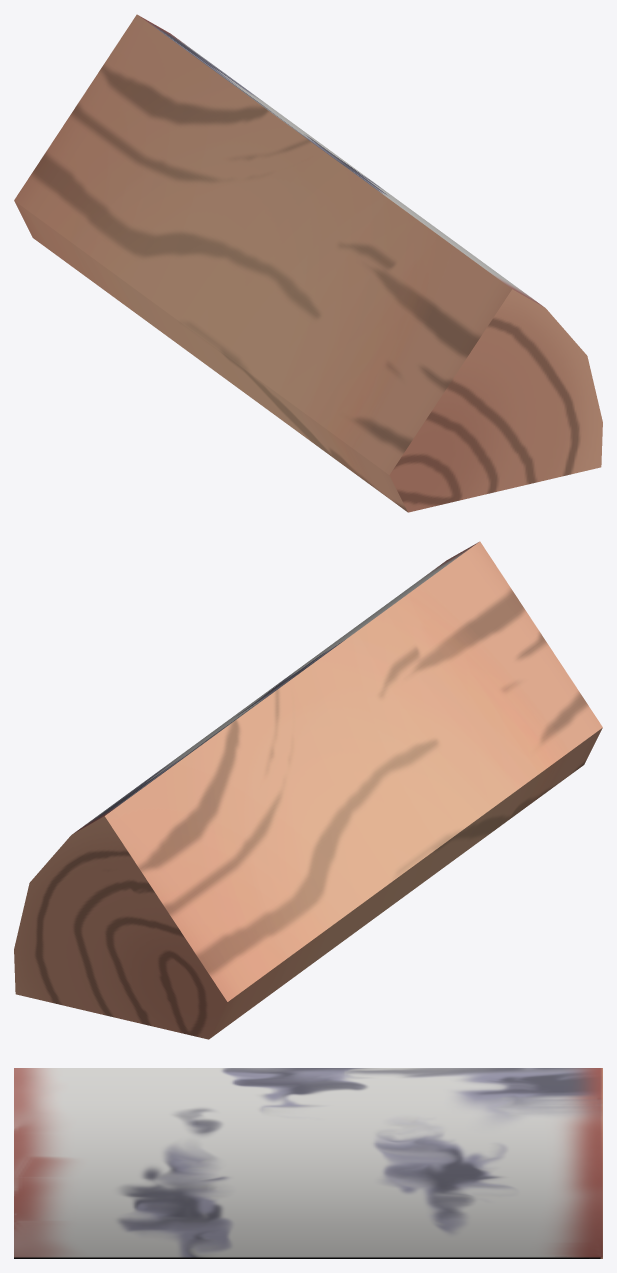
The model's file is Log_003.fbx.
3 views of the same model, one above another, from view 1: azimuth 30°, elevation 25°; view 2: azimuth 150°, elevation 25°; view 3: azimuth 270°, elevation 25° (orthographic). The views are drawn at different scales.
Parts seen in each view (by area): view 1: Log.003; view 2: Log.003; view 3: Log.003.
Part boxes in pixels (left/top/right/bottom): Log.003: left=14, top=14, right=602, bottom=512; Log.003: left=14, top=541, right=602, bottom=1039; Log.003: left=14, top=1068, right=602, bottom=1258.
Bounding box in the file's own units: 79.11 × 70.77 × 241.
